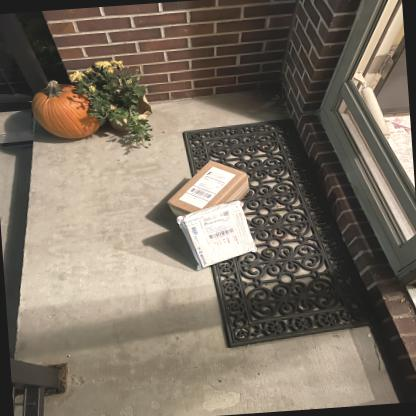box: (166, 160, 249, 215)
plastic_bag: (177, 201, 258, 271)
